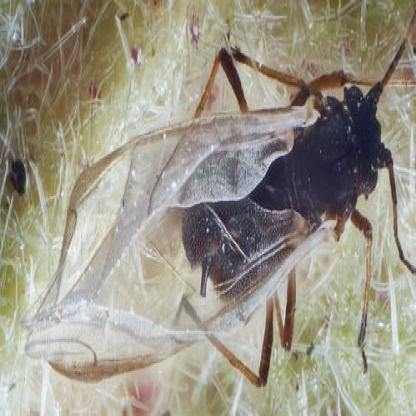aphid: (21, 28, 416, 390)
